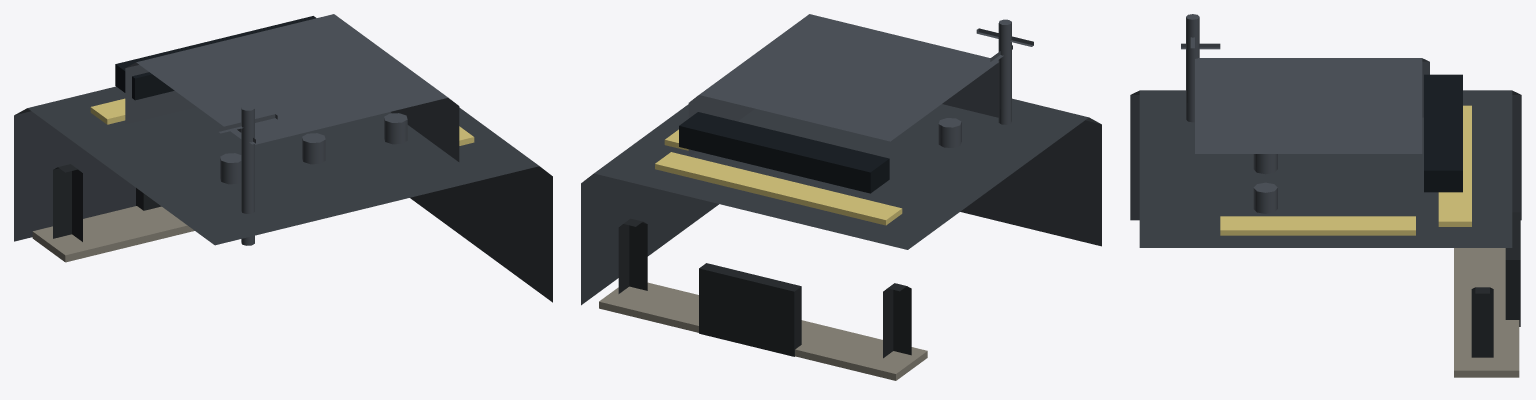
Rendered from command_hq.glb.
The picture shows the model from 3 angles, left to right: view 1: azimuth 30°, elevation 25°; view 2: azimuth 150°, elevation 25°; view 3: azimuth 270°, elevation 25°; orthographic projection. The views are drawn at different scales.
Visible parts, largest first — view 1: Body; view 2: Body; view 3: Body.
Part boxes in pixels (x1=…): Body: x1=14, y1=14, x2=552, y2=302; Body: x1=581, y1=14, x2=1101, y2=380; Body: x1=1130, y1=14, x2=1521, y2=377.
Bounding box in the file's own units: 9 × 6 × 9.
